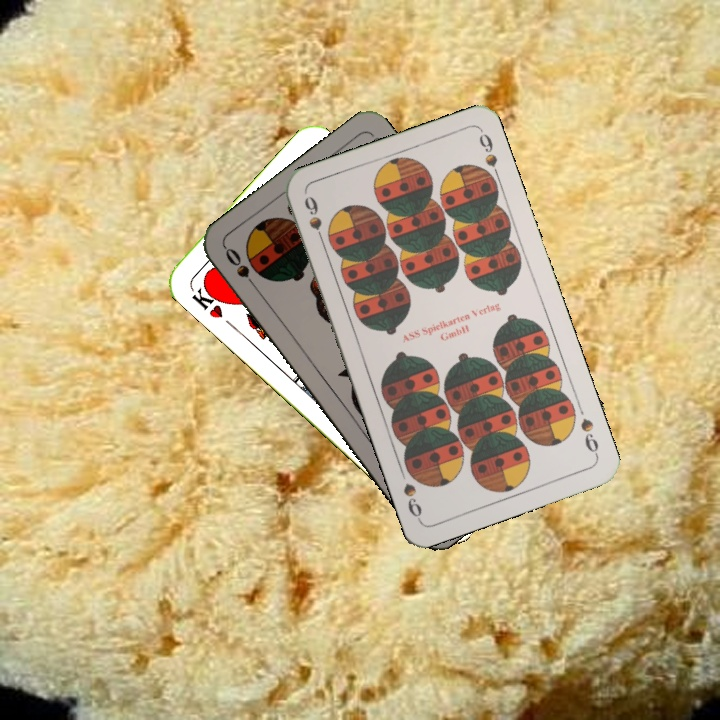HK: (187, 279, 229, 321)
S9: (300, 192, 328, 249), (576, 414, 601, 460)
SO: (221, 243, 262, 295)
